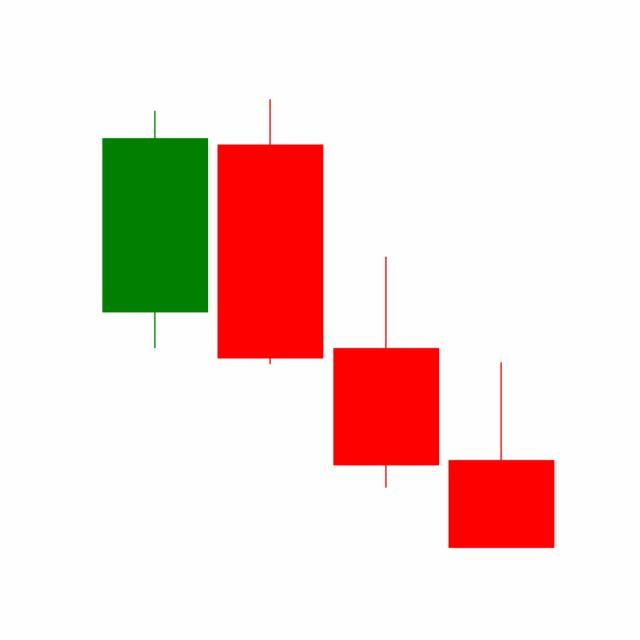Three Black Crows: (211, 99, 555, 549)
